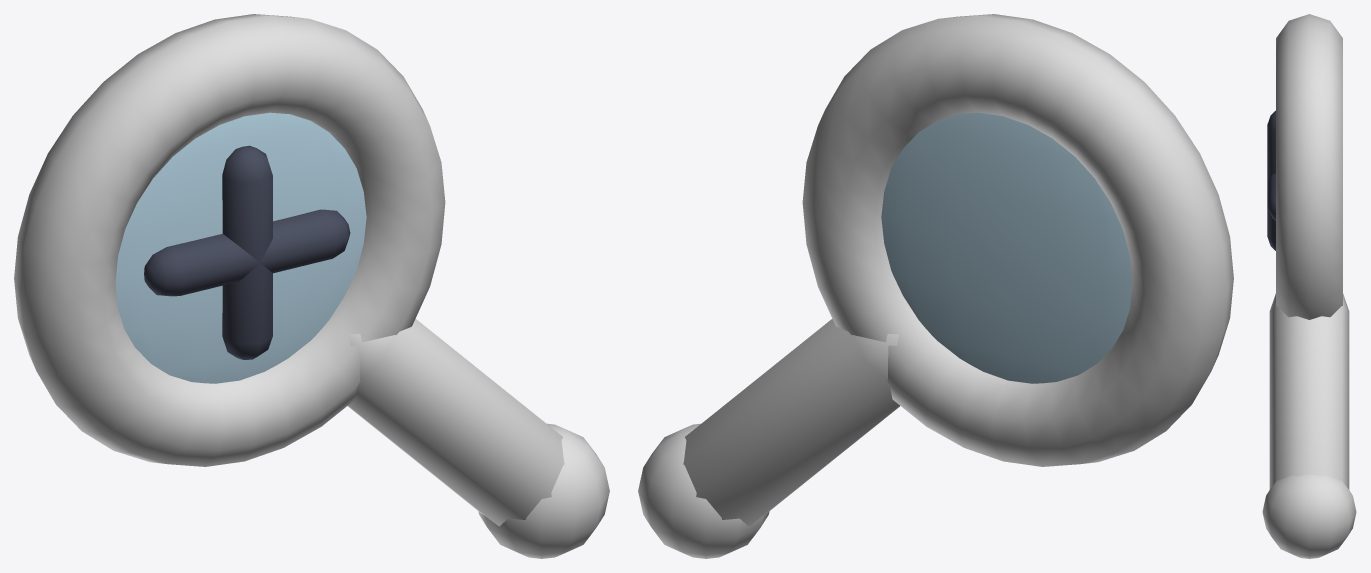
The model's file is search_plus.glb.
The picture shows the model from 3 angles, left to right: view 1: azimuth 30°, elevation 25°; view 2: azimuth 150°, elevation 25°; view 3: azimuth 270°, elevation 25°; orthographic projection. The views are drawn at different scales.
Visible parts, largest first — view 1: search_plus; view 2: search_plus; view 3: search_plus.
Boxes of the visible parts, bbox=[...] form: search_plus: bbox=[14, 14, 609, 558]; search_plus: bbox=[638, 14, 1233, 558]; search_plus: bbox=[1262, 14, 1356, 558].
Size of the model in its own units: 1 by 1 by 0.203.
